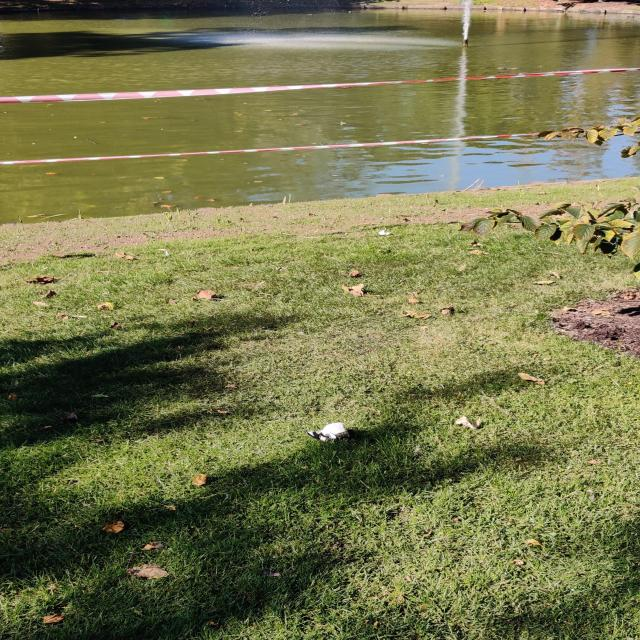litter: (306, 422, 351, 444), (377, 229, 390, 236)
